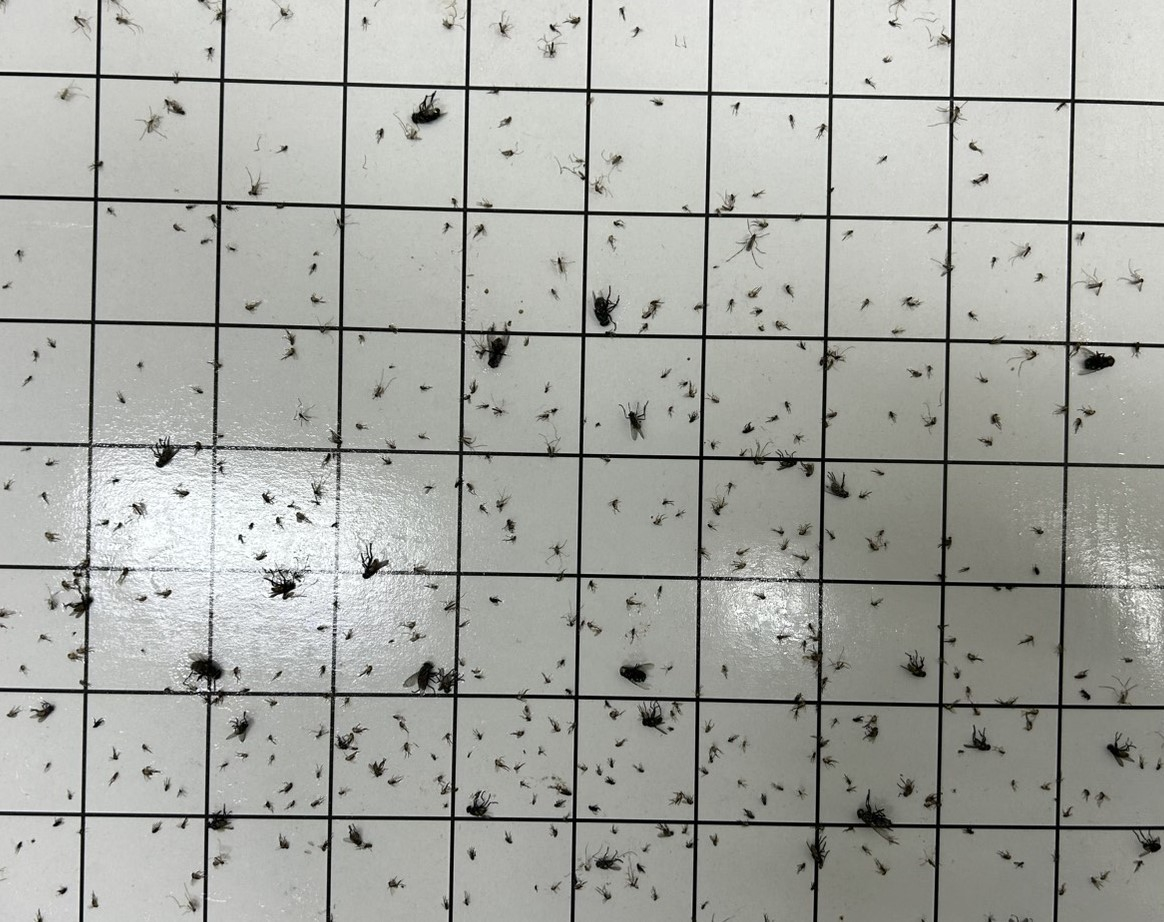fly: (856, 788, 897, 840), (588, 283, 628, 330), (616, 398, 652, 442), (403, 657, 442, 697), (408, 90, 448, 126), (1078, 344, 1118, 380), (187, 650, 224, 686), (482, 326, 511, 371), (356, 544, 389, 581), (1104, 730, 1137, 767), (617, 661, 656, 692), (150, 435, 183, 469), (200, 804, 236, 834), (264, 571, 300, 601), (461, 789, 499, 817), (820, 471, 852, 504), (637, 703, 667, 738), (62, 591, 98, 619), (224, 712, 254, 745), (434, 668, 465, 697), (1130, 830, 1163, 856), (901, 650, 929, 679), (594, 848, 625, 872), (774, 446, 799, 472), (341, 825, 366, 847)
test: (728, 226, 771, 270), (929, 95, 972, 135), (169, 881, 204, 918), (1071, 264, 1105, 297), (132, 108, 167, 140), (1119, 257, 1148, 294), (1008, 346, 1040, 377), (965, 724, 997, 755), (26, 695, 57, 727), (396, 112, 424, 145), (69, 10, 97, 41), (808, 836, 833, 870), (241, 166, 269, 196), (57, 80, 88, 105), (112, 12, 144, 36), (368, 374, 395, 402), (637, 295, 667, 320), (1109, 683, 1140, 706), (714, 191, 740, 217), (161, 95, 188, 119), (331, 730, 359, 753), (493, 12, 515, 41), (803, 642, 825, 671), (550, 253, 574, 279), (43, 586, 62, 618), (271, 1, 295, 26), (931, 28, 955, 51), (366, 753, 389, 775), (241, 295, 266, 314), (897, 775, 916, 800), (899, 294, 925, 312), (652, 822, 678, 840), (919, 408, 940, 430), (703, 742, 725, 763), (752, 444, 770, 469), (493, 489, 511, 514), (293, 406, 315, 426), (996, 693, 1020, 711), (537, 40, 558, 60), (942, 696, 962, 717), (560, 608, 580, 629), (332, 215, 356, 232), (789, 547, 813, 564), (935, 533, 955, 553), (128, 499, 148, 519), (970, 169, 991, 188), (709, 498, 730, 517), (922, 791, 943, 810), (470, 221, 489, 241), (864, 535, 883, 555), (356, 660, 375, 680), (547, 540, 568, 558), (292, 510, 313, 528), (863, 725, 881, 746), (280, 345, 302, 362), (140, 761, 163, 777), (188, 867, 208, 885), (105, 768, 123, 788), (604, 151, 625, 168), (437, 15, 458, 32), (282, 325, 298, 347), (592, 177, 610, 196), (1013, 241, 1032, 259), (1017, 631, 1036, 649), (586, 619, 605, 637), (513, 686, 532, 704), (754, 215, 771, 235), (861, 74, 881, 91), (936, 261, 956, 278), (800, 458, 817, 478), (790, 698, 810, 715), (387, 876, 407, 893), (613, 2, 629, 23), (4, 704, 25, 720), (406, 631, 428, 646), (773, 318, 792, 335), (327, 426, 344, 445), (173, 485, 192, 502), (626, 873, 643, 892), (552, 794, 569, 813), (492, 754, 509, 773), (729, 557, 749, 573), (624, 595, 644, 611), (966, 650, 986, 666), (648, 94, 665, 112), (857, 297, 875, 314), (695, 545, 713, 562), (547, 718, 565, 735), (595, 884, 613, 901), (206, 691, 224, 708), (280, 778, 297, 796), (903, 365, 922, 381), (988, 410, 1004, 429), (555, 782, 574, 798), (116, 565, 131, 585), (275, 832, 290, 852), (351, 721, 371, 736), (203, 45, 217, 66), (1077, 404, 1098, 418), (926, 220, 943, 237), (974, 371, 991, 388), (830, 347, 847, 364), (651, 511, 668, 528), (797, 521, 814, 538), (259, 489, 276, 506), (875, 861, 892, 878), (548, 878, 565, 895), (175, 815, 192, 832), (88, 157, 106, 173), (385, 320, 403, 336), (502, 515, 518, 533), (1093, 789, 1111, 805), (945, 632, 961, 650), (924, 854, 942, 870), (519, 705, 535, 723), (211, 852, 229, 868), (43, 530, 62, 545), (627, 625, 642, 644), (108, 744, 123, 763), (65, 649, 84, 664), (987, 333, 1006, 348), (74, 643, 95, 656), (604, 234, 620, 251), (885, 15, 901, 32), (316, 319, 333, 335), (0, 478, 16, 495), (148, 820, 164, 837), (343, 750, 360, 766), (671, 699, 688, 715), (965, 140, 983, 155), (876, 151, 894, 166), (563, 13, 581, 28), (167, 70, 182, 88), (831, 657, 849, 672), (284, 794, 299, 812), (546, 19, 565, 33), (499, 146, 518, 160), (475, 196, 494, 210), (169, 221, 188, 235), (1130, 340, 1144, 359), (155, 586, 174, 600), (1132, 857, 1146, 876), (35, 631, 54, 645), (1071, 415, 1084, 435), (751, 186, 767, 202), (1053, 97, 1069, 113), (309, 482, 325, 498), (1074, 666, 1090, 682), (724, 730, 740, 746), (91, 714, 107, 730), (50, 814, 66, 830), (76, 555, 92, 571), (497, 114, 514, 129), (745, 285, 762, 300), (824, 406, 841, 421), (740, 422, 757, 437), (856, 488, 873, 503), (37, 490, 52, 507), (996, 849, 1013, 864), (816, 736, 833, 751), (538, 670, 553, 687), (570, 878, 587, 893), (574, 760, 591, 775), (511, 759, 526, 776), (234, 747, 251, 762), (924, 360, 936, 381), (205, 358, 223, 372), (868, 597, 886, 611), (411, 562, 429, 576), (816, 121, 829, 140), (207, 210, 220, 229), (773, 630, 792, 643), (12, 836, 25, 855), (980, 435, 995, 451), (308, 292, 328, 304), (199, 234, 215, 249), (214, 6, 229, 22), (45, 335, 61, 350), (21, 373, 37, 388), (1054, 400, 1070, 415), (823, 526, 839, 541), (459, 435, 475, 450), (967, 703, 983, 718), (742, 806, 758, 821), (609, 708, 625, 723), (608, 823, 623, 839), (437, 782, 453, 797), (237, 684, 252, 700), (262, 800, 277, 816), (318, 839, 334, 854), (31, 907, 47, 922), (16, 662, 31, 678), (749, 305, 766, 319), (544, 441, 558, 458), (613, 736, 630, 750), (385, 774, 402, 788), (1025, 705, 1042, 719), (783, 283, 796, 301), (440, 220, 453, 238), (751, 589, 769, 602), (442, 599, 460, 612), (670, 787, 683, 805), (308, 796, 326, 809), (687, 384, 698, 405), (374, 126, 389, 141), (537, 409, 552, 424), (379, 453, 394, 468), (1078, 687, 1093, 702), (404, 617, 419, 632), (312, 723, 327, 738), (217, 758, 232, 773), (54, 883, 69, 898), (884, 409, 900, 423), (103, 204, 119, 218), (359, 14, 373, 30), (771, 523, 787, 537), (320, 450, 334, 466), (453, 476, 467, 492), (476, 502, 490, 518), (286, 499, 302, 513), (272, 514, 286, 530), (343, 628, 357, 644), (382, 633, 396, 649), (772, 780, 788, 794), (708, 832, 722, 848), (501, 830, 515, 846), (77, 677, 93, 691), (565, 718, 579, 734), (724, 296, 737, 313), (657, 367, 674, 380), (183, 199, 200, 212), (870, 466, 887, 479), (957, 564, 974, 577), (818, 674, 831, 691), (650, 886, 663, 903), (89, 889, 99, 911), (889, 325, 907, 337), (735, 545, 753, 557), (934, 621, 952, 633), (510, 727, 528, 739), (687, 411, 702, 425), (12, 247, 26, 262), (190, 439, 204, 454), (491, 405, 505, 420), (1029, 524, 1044, 538), (384, 440, 399, 454), (554, 569, 568, 584), (488, 593, 503, 607), (851, 711, 865, 726), (457, 617, 471, 632), (396, 721, 411, 735), (264, 733, 279, 747), (517, 778, 532, 792), (231, 664, 242, 683), (475, 400, 491, 413), (468, 378, 481, 394), (486, 84, 502, 97), (504, 533, 520, 546), (43, 456, 59, 469), (95, 516, 111, 529), (111, 520, 127, 533), (951, 666, 964, 682), (824, 754, 837, 770), (631, 761, 647, 774), (400, 740, 413, 756), (266, 752, 279, 768), (59, 577, 72, 593), (549, 286, 561, 303), (693, 301, 710, 313), (639, 320, 651, 337), (223, 202, 240, 214), (1057, 882, 1069, 899), (758, 791, 770, 808), (796, 860, 808, 877), (1055, 641, 1067, 658), (593, 761, 603, 781), (965, 310, 979, 324), (961, 823, 975, 837), (1012, 859, 1026, 873), (336, 786, 350, 800), (868, 712, 882, 726), (629, 25, 644, 38), (1075, 231, 1088, 246), (116, 391, 129, 406), (673, 507, 688, 520), (272, 666, 287, 679), (1060, 806, 1075, 819), (704, 720, 717, 735), (555, 656, 568, 671), (604, 774, 617, 789), (466, 847, 479, 862), (474, 727, 487, 742), (455, 657, 468, 672), (1023, 721, 1036, 736), (786, 112, 798, 128), (843, 226, 855, 242), (817, 352, 829, 368), (424, 580, 440, 592), (19, 444, 35, 456), (696, 765, 712, 777), (173, 787, 189, 799), (63, 786, 75, 802), (132, 594, 151, 604), (541, 380, 552, 397), (609, 497, 620, 514), (1081, 784, 1092, 801), (549, 824, 560, 841), (729, 99, 742, 113), (678, 376, 691, 390), (191, 384, 205, 397), (423, 482, 437, 495), (1089, 876, 1103, 889), (683, 793, 696, 807), (587, 801, 600, 815), (662, 662, 676, 675), (75, 824, 88, 838), (1134, 757, 1147, 771), (610, 217, 625, 229), (666, 405, 678, 420), (30, 347, 42, 362), (416, 430, 431, 442), (991, 580, 1003, 595), (780, 537, 792, 552), (791, 690, 803, 705), (963, 684, 975, 699), (600, 696, 612, 711), (440, 895, 452, 910), (392, 712, 407, 724), (639, 841, 651, 856), (987, 254, 998, 270), (783, 399, 794, 415), (252, 551, 268, 562), (161, 778, 172, 794), (42, 758, 53, 774), (658, 497, 675, 507), (824, 358, 837, 371), (2, 279, 15, 292), (1004, 582, 1017, 595), (767, 412, 780, 425), (724, 479, 737, 492), (605, 757, 618, 770), (440, 730, 453, 743), (807, 749, 820, 762), (571, 153, 584, 166), (708, 394, 722, 406), (792, 431, 804, 445), (936, 570, 948, 584), (314, 767, 326, 781), (995, 745, 1009, 757), (1032, 270, 1043, 285), (140, 743, 155, 754), (798, 637, 809, 652), (1041, 781, 1052, 796), (739, 738, 750, 753), (461, 892, 472, 907), (536, 743, 547, 758), (1032, 563, 1042, 579), (161, 686, 177, 696), (792, 214, 804, 227), (825, 185, 837, 198), (708, 439, 721, 451), (225, 243, 238, 255), (420, 381, 432, 394), (601, 453, 613, 466), (793, 568, 806, 580), (1008, 777, 1020, 790), (860, 844, 872, 857), (634, 860, 646, 873), (560, 812, 572, 825), (434, 771, 446, 784), (215, 462, 227, 475), (448, 195, 459, 209), (459, 393, 473, 404), (236, 532, 247, 546), (316, 623, 330, 634), (318, 663, 329, 677), (1100, 869, 1111, 883), (470, 665, 484, 676), (1154, 759, 1163, 776), (843, 772, 853, 787), (880, 54, 892, 66), (755, 322, 767, 334), (277, 142, 289, 154), (680, 823, 692, 835), (0, 609, 16, 618), (807, 881, 819, 893), (584, 96, 596, 108), (586, 579, 597, 592), (267, 697, 280, 708), (809, 634, 822, 645), (956, 745, 967, 758), (844, 821, 855, 834), (341, 694, 352, 707), (309, 261, 319, 275), (357, 332, 367, 346), (353, 421, 367, 431), (720, 663, 730, 677), (830, 717, 840, 731), (1121, 655, 1135, 665), (529, 792, 539, 806), (680, 203, 692, 214), (797, 341, 809, 352), (428, 751, 439, 763), (215, 688, 227, 699), (582, 863, 593, 875), (522, 337, 532, 350), (705, 520, 718, 530), (655, 584, 665, 597), (806, 620, 816, 633), (796, 787, 806, 800), (473, 674, 487, 683), (550, 405, 561, 416), (577, 170, 589, 180), (482, 450, 492, 462), (735, 777, 745, 789), (686, 838, 696, 850), (699, 899, 709, 911), (738, 448, 749, 458), (199, 0, 210, 10), (876, 528, 887, 538), (246, 520, 256, 531), (311, 498, 322, 508), (330, 598, 341, 608), (111, 475, 121, 486), (442, 801, 452, 812), (215, 431, 226, 441), (516, 306, 526, 317), (604, 330, 615, 340), (275, 201, 287, 210), (136, 359, 145, 371), (466, 749, 475, 761), (466, 482, 476, 492), (330, 519, 340, 529), (521, 747, 531, 757), (311, 249, 322, 258), (563, 686, 572, 697), (72, 578, 81, 588), (482, 286, 491, 296), (387, 361, 395, 372), (29, 836, 37, 847), (820, 421, 831, 428), (670, 723, 676, 735), (838, 914, 847, 922), (986, 914, 995, 922), (711, 263, 720, 271), (951, 786, 958, 796), (594, 421, 602, 429), (139, 646, 147, 654), (70, 629, 78, 636), (533, 883, 538, 894), (686, 356, 692, 363)
